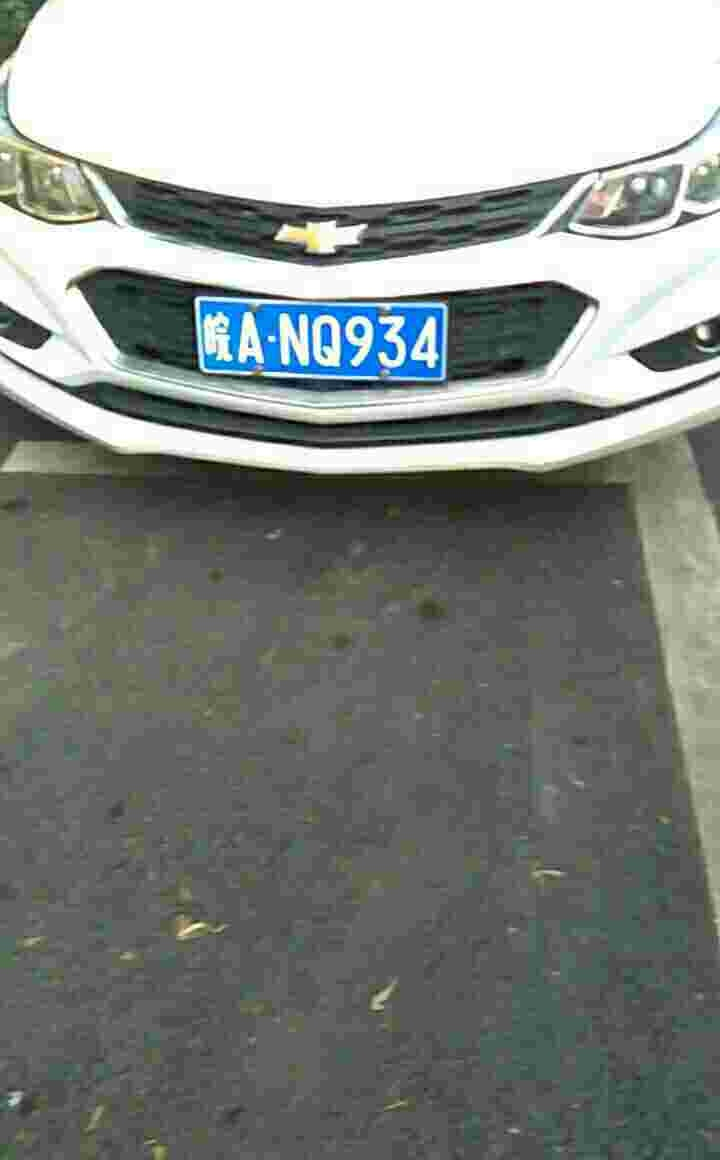plate: (197, 295, 452, 385)
